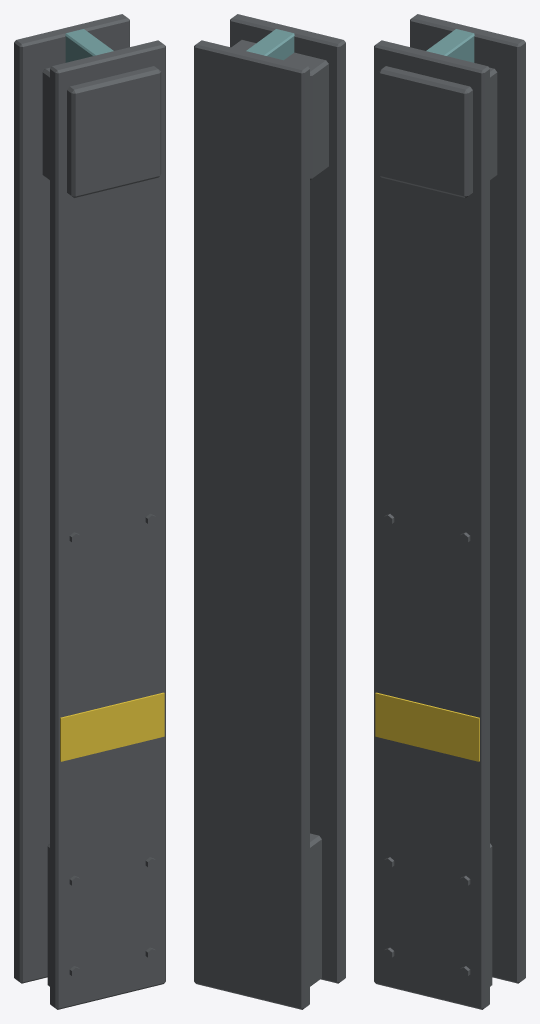
Rendered from wall_rib.glb.
The picture shows the model from 3 angles, left to right: view 1: azimuth 30°, elevation 25°; view 2: azimuth 150°, elevation 25°; view 3: azimuth 330°, elevation 25°; orthographic projection.
Parts seen in each view (by area): view 1: wall_rib; view 2: wall_rib; view 3: wall_rib.
Part boxes in pixels (left/top/right/bottom): wall_rib: left=14, top=14, right=165, bottom=1009; wall_rib: left=194, top=14, right=345, bottom=1009; wall_rib: left=374, top=14, right=525, bottom=1009.
Bounding box in the file's own units: 0.32 × 2.6 × 0.25.
